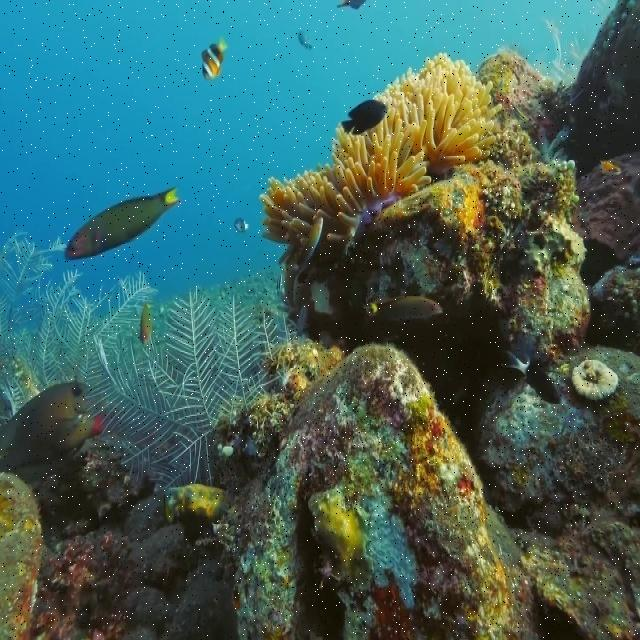aquatic plants: (82, 286, 308, 501), (0, 231, 159, 427)
fish: (64, 186, 181, 260), (1, 381, 93, 472), (502, 352, 561, 403), (370, 295, 443, 321), (342, 99, 388, 134), (201, 39, 229, 79), (302, 219, 324, 269)
reefs: (258, 52, 502, 257)
sea-floor: (192, 340, 544, 639), (479, 344, 639, 583)
